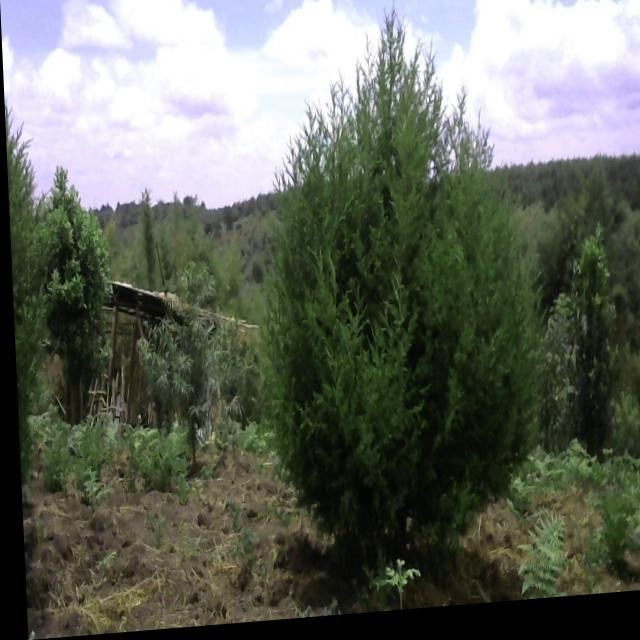Lemon Myrtle: (37, 164, 118, 414)
cedrus: (265, 40, 544, 536), (3, 98, 48, 484)
other: (127, 257, 244, 451), (549, 234, 631, 456)
